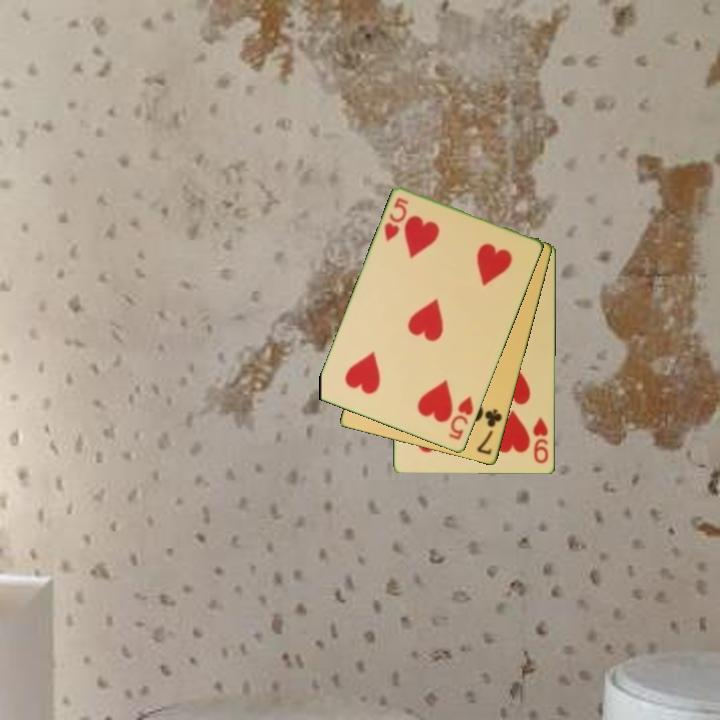5h: (445, 392, 477, 443), (381, 194, 412, 245)
7c: (473, 406, 505, 458)
9h: (529, 414, 552, 466)
